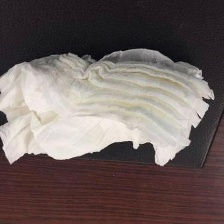tissue: (0, 43, 220, 172)
